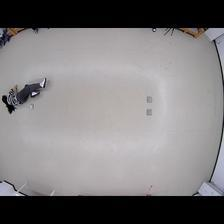fall: (1, 76, 45, 114)
